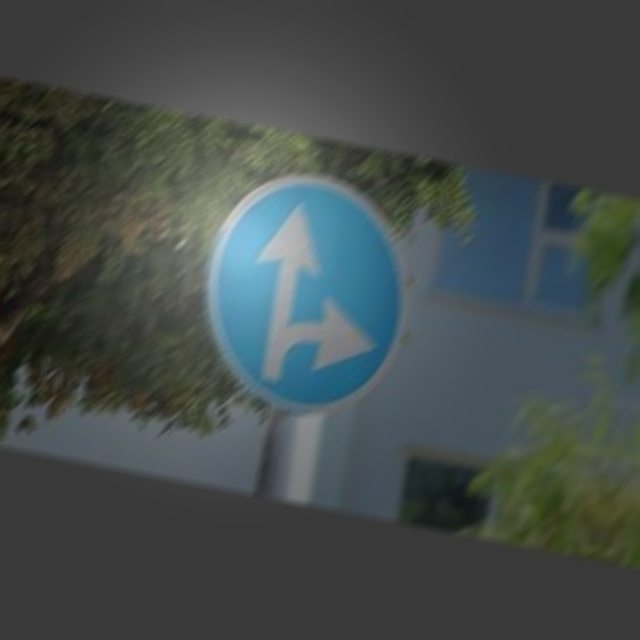Compulsory_Ahead_or_Turn_Right: (186, 159, 428, 434)
